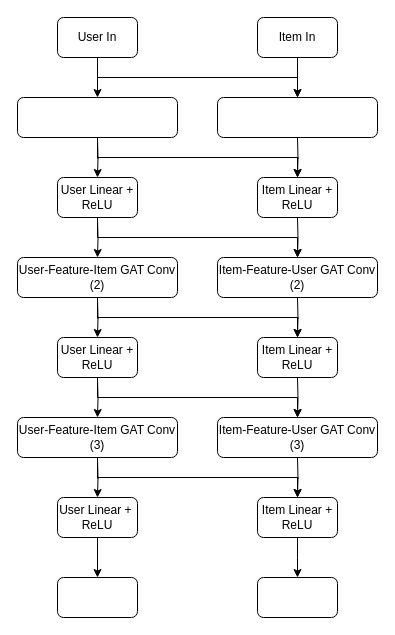
The diagram is 395 pixels wide and 635 high, and some of its shapes have lost their labels. Each missing label, with the centre of its shape:
"Item out" goes at pixel 297 597.
"Item-Feature-User GAT Conv (1)" goes at pixel 297 117.
"User out" goes at pixel 97 597.
"User-Feature-Item GAT Conv (1)" goes at pixel 97 117.
